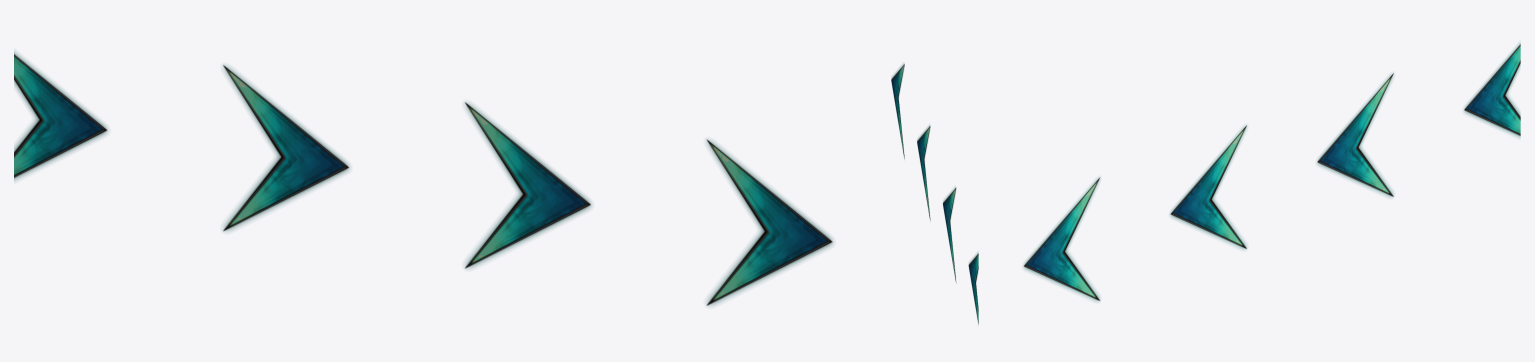
File: PanelDisplay.glb
The picture shows the model from 3 angles, left to right: view 1: azimuth 30°, elevation 25°; view 2: azimuth 150°, elevation 25°; view 3: azimuth 270°, elevation 25°; orthographic projection. The views are drawn at different scales.
Parts seen in each view (by area): view 1: blueZipper.png__; view 2: blueZipper.png__; view 3: blueZipper.png__.
Part boxes in pixels (bbox=[...]): blueZipper.png__: bbox=[14, 51, 833, 305]; blueZipper.png__: bbox=[891, 63, 978, 324]; blueZipper.png__: bbox=[1023, 42, 1520, 301].
Size of the model in its own units: 10.28 by 4 by 12.26.
Materials: 1 (1 with a texture image).
